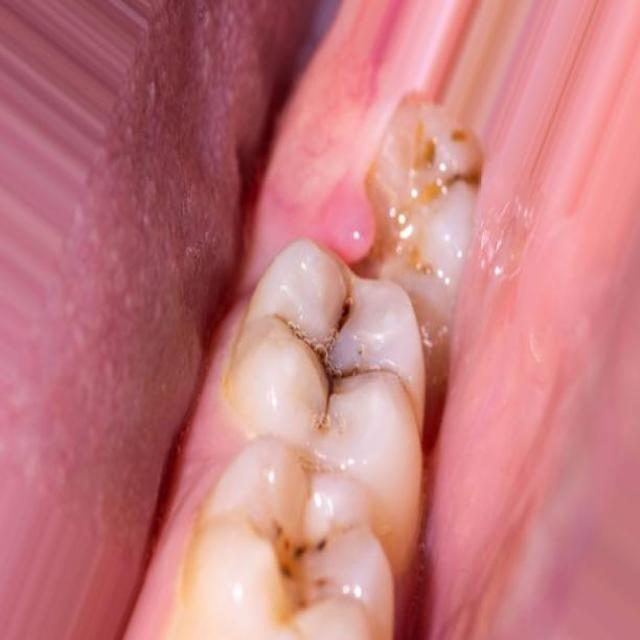caries: (369, 103, 476, 273), (271, 280, 391, 422), (248, 479, 374, 609)
